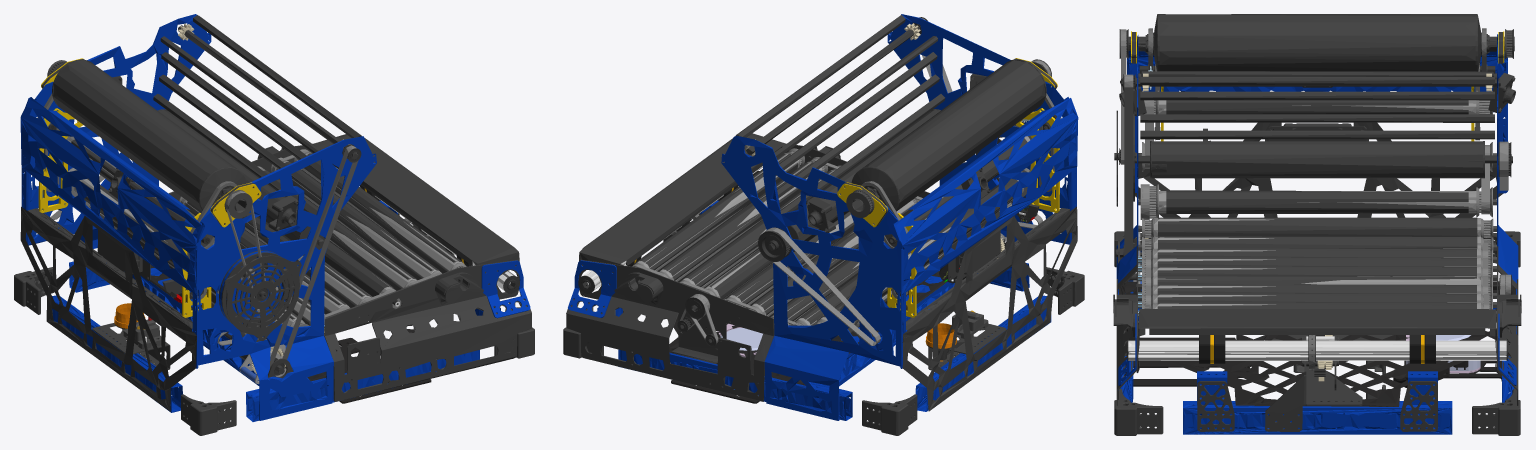
Rendered from 6328-body.glb.
3 views of the same model, side by side, from view 1: azimuth 30°, elevation 25°; view 2: azimuth 150°, elevation 25°; view 3: azimuth 270°, elevation 25° (orthographic). The views are drawn at different scales.
Parts seen in each view (by area): view 1: Part 51, 6328-26C-2324 Hard Stop Block, Part 1 (×2), 40T HTD Belt, 6328-26C-3128 Drum-Tower Mounting Plate Thickener, 6328-26C-0108 Battery Holder, MAXSpline Shaft Endcap (1/2" Hex Bore, Plastic), Robot Radio (VH-109), 30T Custom Pulley, 40 links 0.35" chain, 120A Main Breaker; view 2: Part 51, 6328-26C-2324 Hard Stop Block, Part 1 (×2), 40T HTD Belt, MAXSpline Shaft Endcap (1/2" Hex Bore, Plastic), 6328-26C-3128 Drum-Tower Mounting Plate Thickener, 6328-26C-0108 Battery Holder, Robot Radio (VH-109), 30T Custom Pulley, 40 links 0.35" chain, Mac Mini; view 3: Part 51, 6328-26C-2324 Hard Stop Block, Part 1 (×2), 6328-26C-0108 Battery Holder, 6328-26C-2322 Intake Deploy Idler Deadaxle, 40T HTD Belt, 6328-26C-2327 Hardstop Extension Block, MAXSpline Shaft Endcap (1/2" Hex Bore, Plastic), 40 links 0.35" chain, Part 2, 30T Custom Pulley, Mac Mini.
Part boxes in pixels (box(x1,y1,x2,y2)): Part 51: box(14, 15, 534, 435); 6328-26C-2324 Hard Stop Block: box(20, 14, 530, 421); Part 1 (×2): box(66, 136, 466, 335); 40T HTD Belt: box(50, 145, 441, 367); 6328-26C-3128 Drum-Tower Mounting Plate Thickener: box(38, 58, 261, 317); 6328-26C-0108 Battery Holder: box(148, 265, 431, 403); MAXSpline Shaft Endcap (1/2" Hex Bore, Plastic): box(48, 123, 519, 375); Robot Radio (VH-109): box(97, 226, 142, 274); 30T Custom Pulley: box(43, 60, 252, 246); 40 links 0.35" chain: box(37, 93, 428, 299); 120A Main Breaker: box(123, 317, 161, 349); Part 51: box(563, 15, 1084, 435); 6328-26C-2324 Hard Stop Block: box(568, 14, 1078, 420); Part 1 (×2): box(634, 136, 1031, 335); 40T HTD Belt: box(632, 18, 1051, 345); MAXSpline Shaft Endcap (1/2" Hex Bore, Plastic): box(578, 17, 1050, 360); 6328-26C-3128 Drum-Tower Mounting Plate Thickener: box(837, 58, 1059, 317); 6328-26C-0108 Battery Holder: box(669, 271, 947, 403); Robot Radio (VH-109): box(955, 225, 1000, 274); 30T Custom Pulley: box(846, 59, 1055, 247); 40 links 0.35" chain: box(671, 93, 1061, 298); Mac Mini: box(720, 328, 762, 350); Part 51: box(1113, 14, 1521, 435); 6328-26C-2324 Hard Stop Block: box(1116, 34, 1518, 434); Part 1 (×2): box(1142, 90, 1493, 309); 6328-26C-0108 Battery Holder: box(1119, 281, 1515, 406); 6328-26C-2322 Intake Deploy Idler Deadaxle: box(1128, 336, 1506, 360); 40T HTD Belt: box(1121, 29, 1510, 308); 6328-26C-2327 Hardstop Extension Block: box(1199, 335, 1435, 363); MAXSpline Shaft Endcap (1/2" Hex Bore, Plastic): box(1119, 66, 1512, 376); 40 links 0.35" chain: box(1148, 28, 1486, 369); Part 2: box(1138, 154, 1496, 398); 30T Custom Pulley: box(1119, 29, 1513, 71); Mac Mini: box(1406, 335, 1480, 370).
Size of the model in its own units: 0.7111 by 0.5159 by 0.6886.
